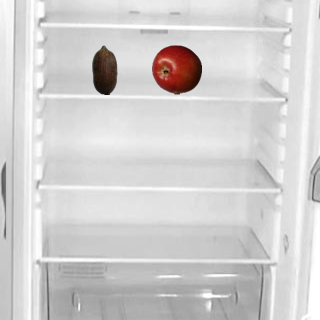Apple Braeburn: (151, 44, 201, 94)
Nut Pecan: (79, 44, 129, 94)
